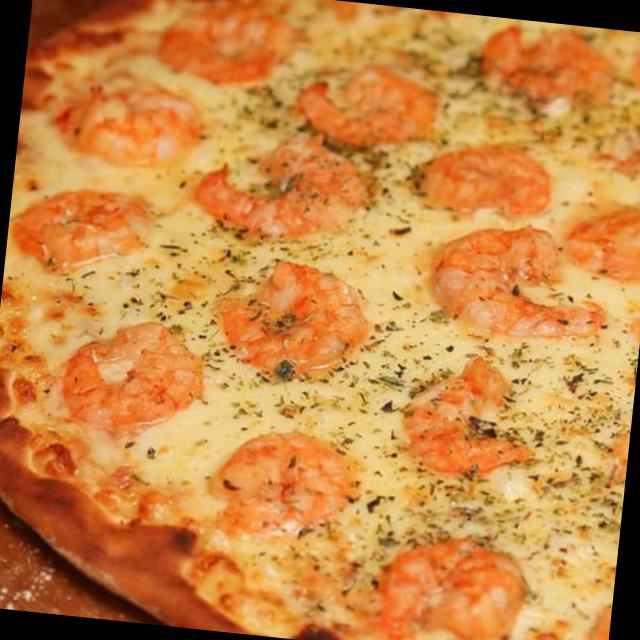camarao: (418, 212, 614, 348), (210, 250, 380, 390), (193, 131, 375, 249), (392, 348, 544, 476), (215, 418, 363, 546), (372, 525, 534, 639), (58, 310, 205, 434), (290, 49, 443, 162), (149, 0, 309, 94), (8, 176, 156, 274), (61, 76, 207, 175), (416, 136, 560, 229)
pizza: (0, 0, 639, 639)
